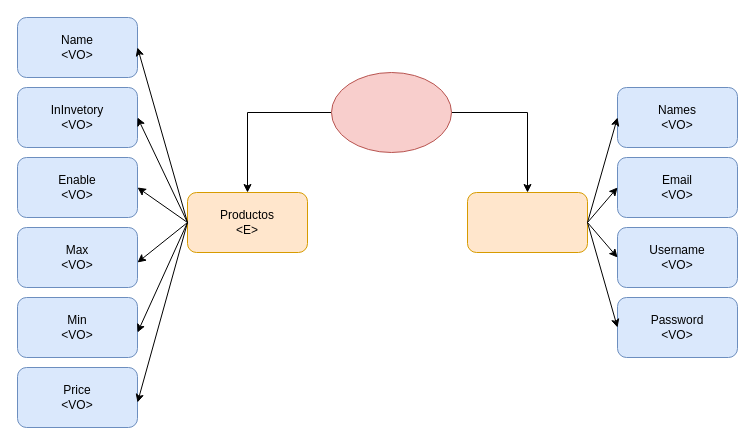
Some shapes in this 755 by 445 pixel diagram are drawn without their labels. Each missing label, with the centre of its shape:
"Clientes <E>" goes at (527,222).
"Tienda <AR>" goes at (391,112).
